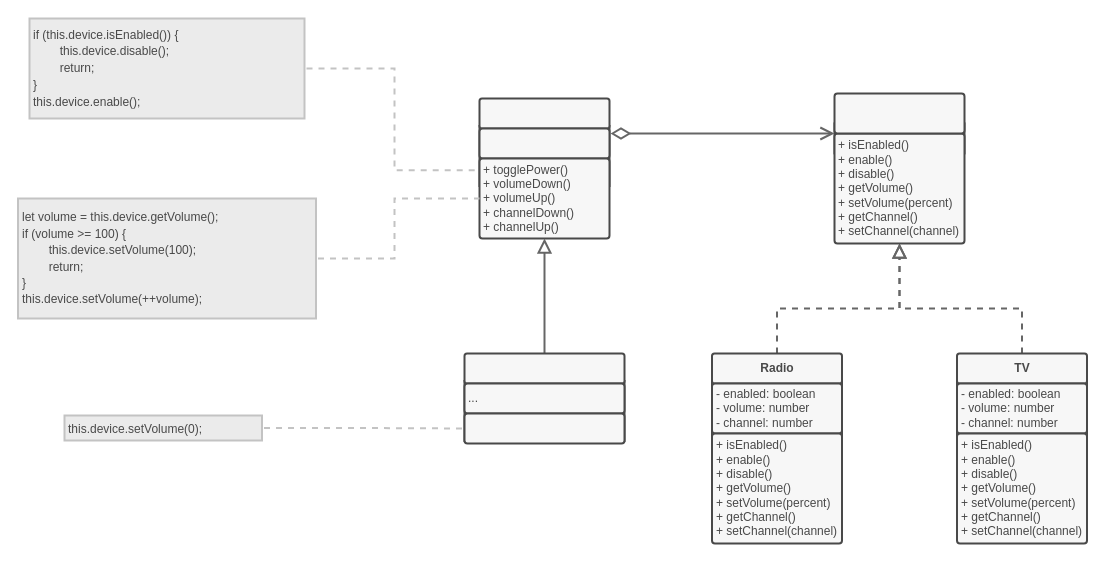
Some shapes in this 1105 by 561 pixel diagram are drawn without their labels. The shapes that lost their labels are listed below. From the top down, each one's centre as x and y in pixels, then its label:
At point 544,113: "RemoteControl".
At point 899,113: "<<interface>> Device".
At point 544,143: "- device: Device".
At point 544,368: "AdvancedRemoteControl".
At point 544,428: "+ mute()".
